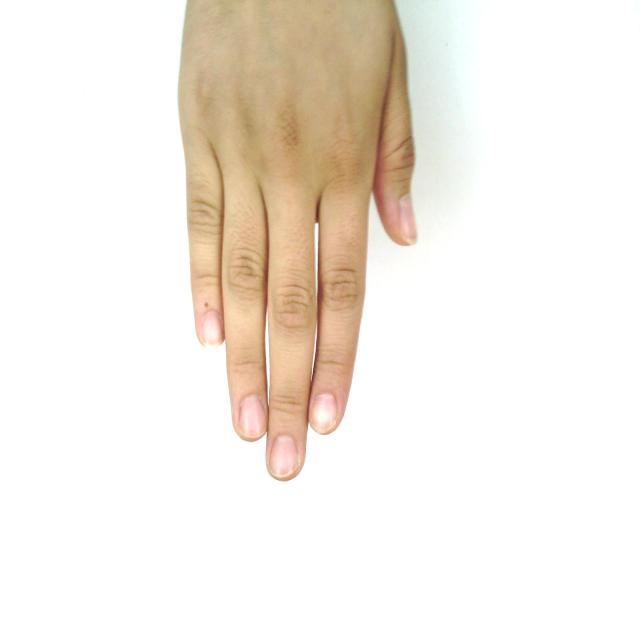Fingernail: (271, 435, 297, 477), (240, 396, 265, 438), (311, 394, 337, 431), (400, 196, 417, 243), (202, 310, 222, 346)
